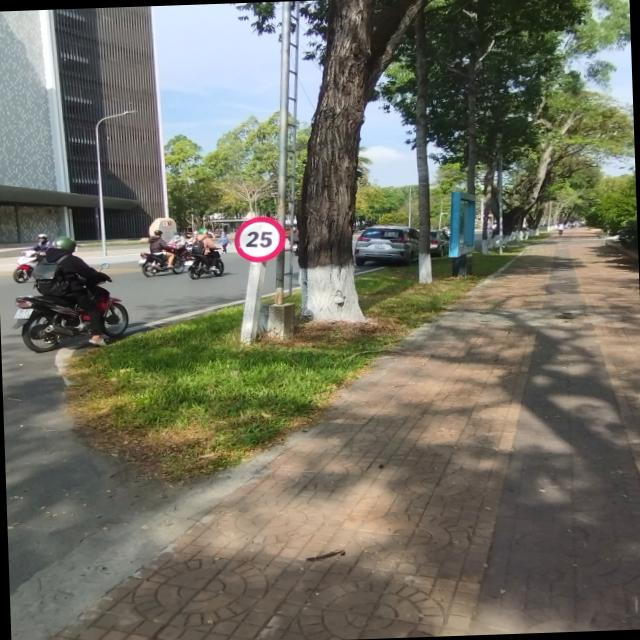Tre_Em: (233, 215, 287, 262)
